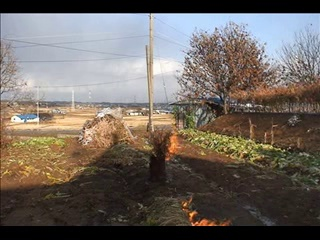fire: (180, 198, 233, 225), (164, 125, 181, 166)
